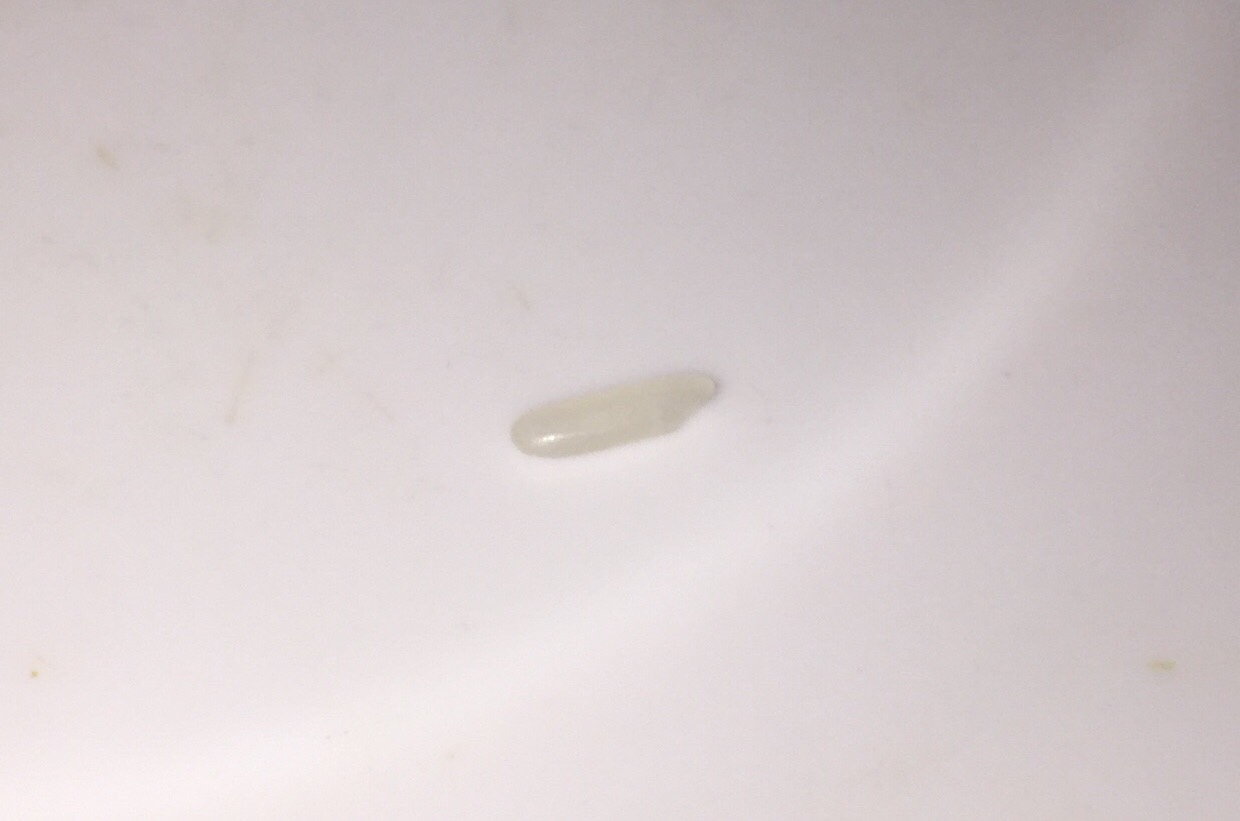Gao Ngoc Troi: (509, 368, 723, 468)
